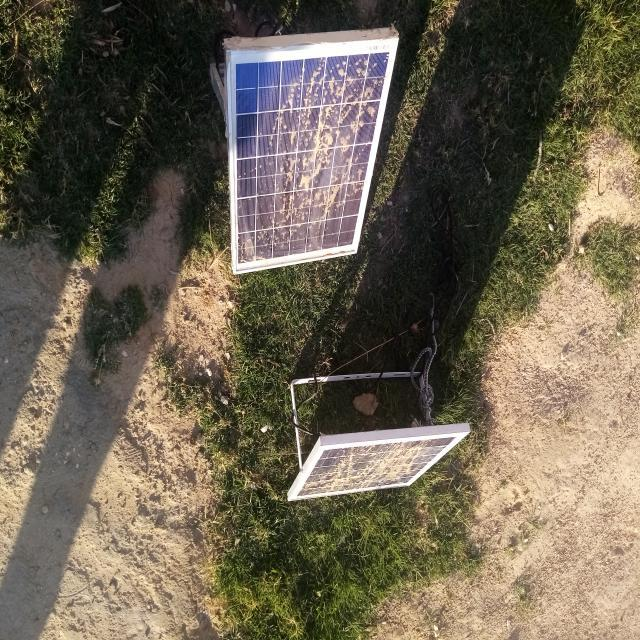faulty: (227, 38, 398, 274), (288, 431, 471, 501)
